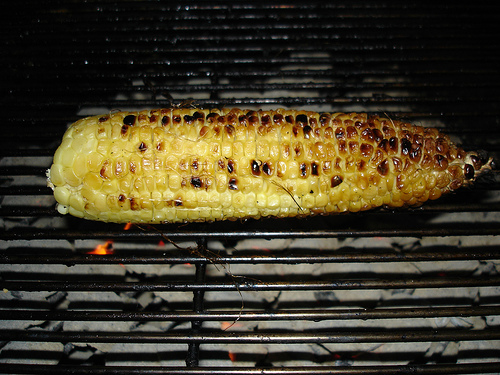corn: (47, 106, 497, 226)
